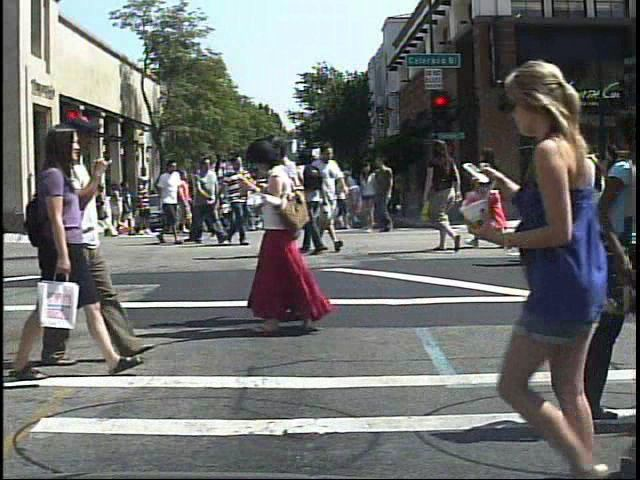person: (461, 56, 625, 480), (6, 116, 120, 381), (240, 135, 326, 334), (68, 108, 133, 370), (271, 130, 331, 330), (570, 132, 617, 283), (419, 134, 468, 259), (540, 120, 581, 269), (253, 136, 298, 263), (468, 142, 513, 256), (297, 150, 342, 261), (309, 141, 351, 251), (190, 154, 226, 249), (219, 151, 255, 246), (577, 147, 609, 244), (154, 157, 188, 245), (134, 172, 154, 241), (72, 182, 92, 232)
